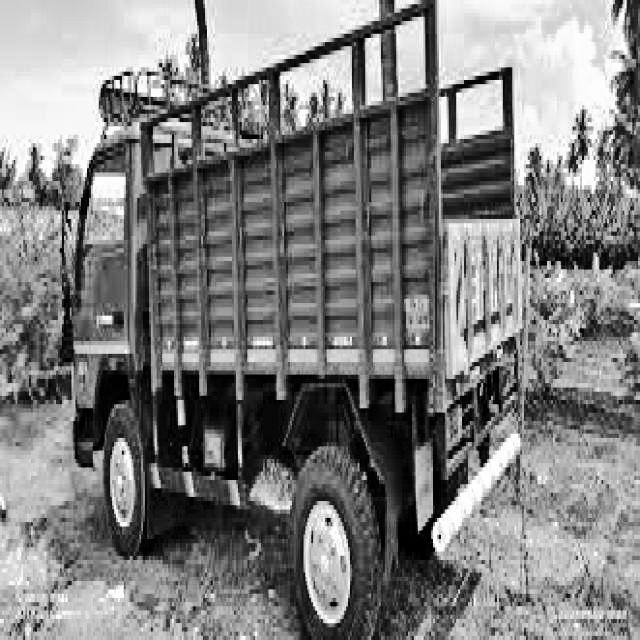HCV: (46, 4, 550, 640)
